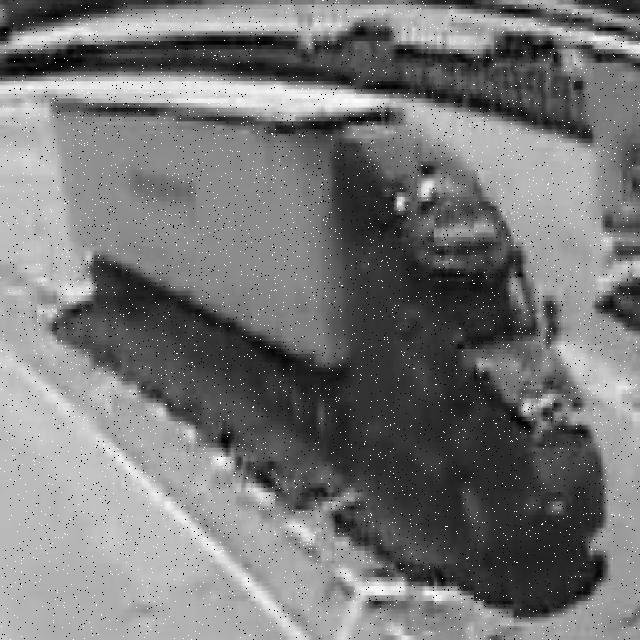Box Truck: (51, 78, 606, 560)
